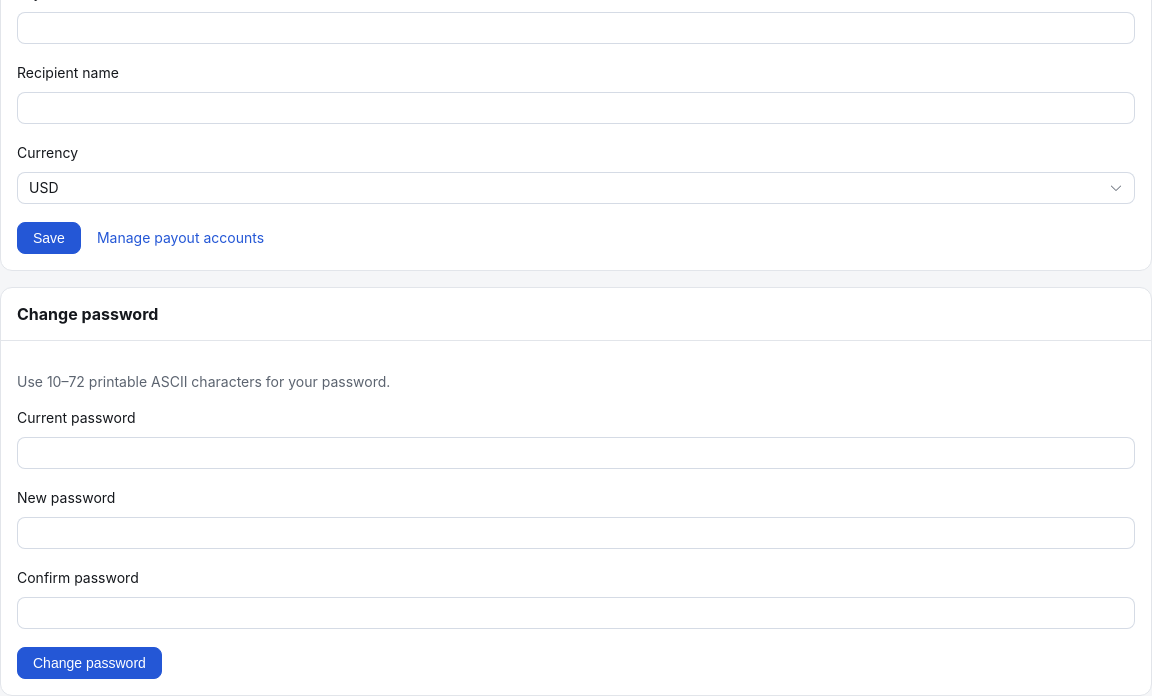
Scenario: account and logout › shows an old-password error and replaces the session after a successful change
(page scrolled)
Step 1. Type "Old-password1" into the password field labelled "Current password" → [576, 453], box [28,438,1124,468]
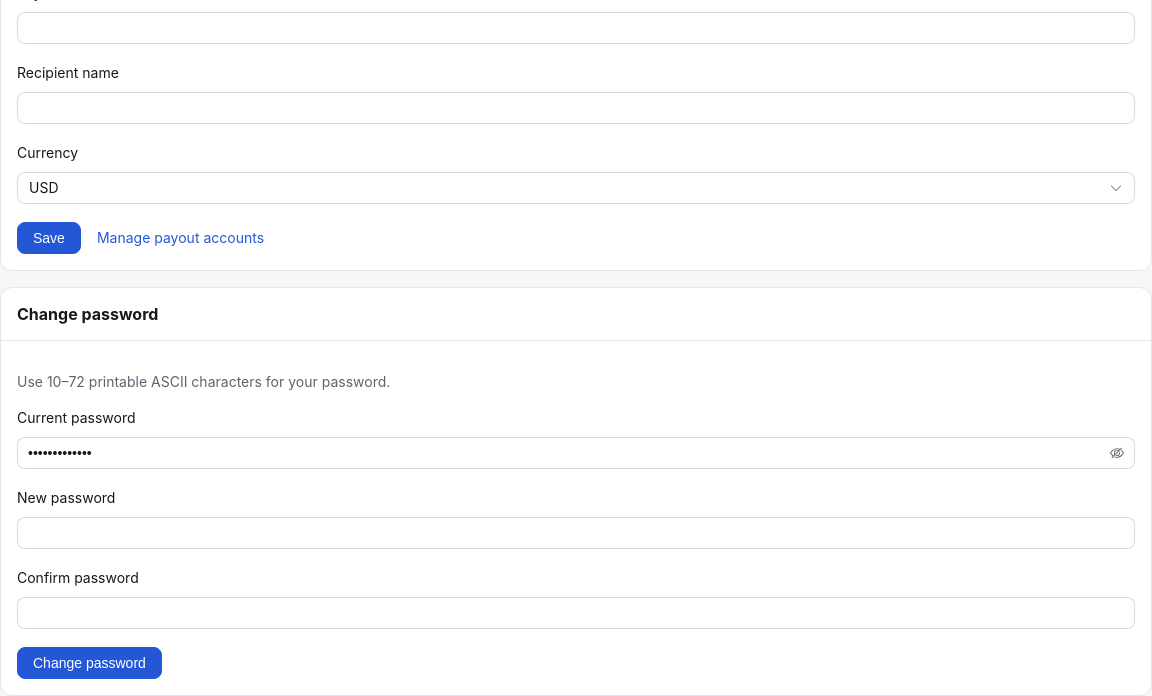
Step 2. Type "New-password2" into the password field labelled "New password" → [576, 533], box [28,518,1124,548]
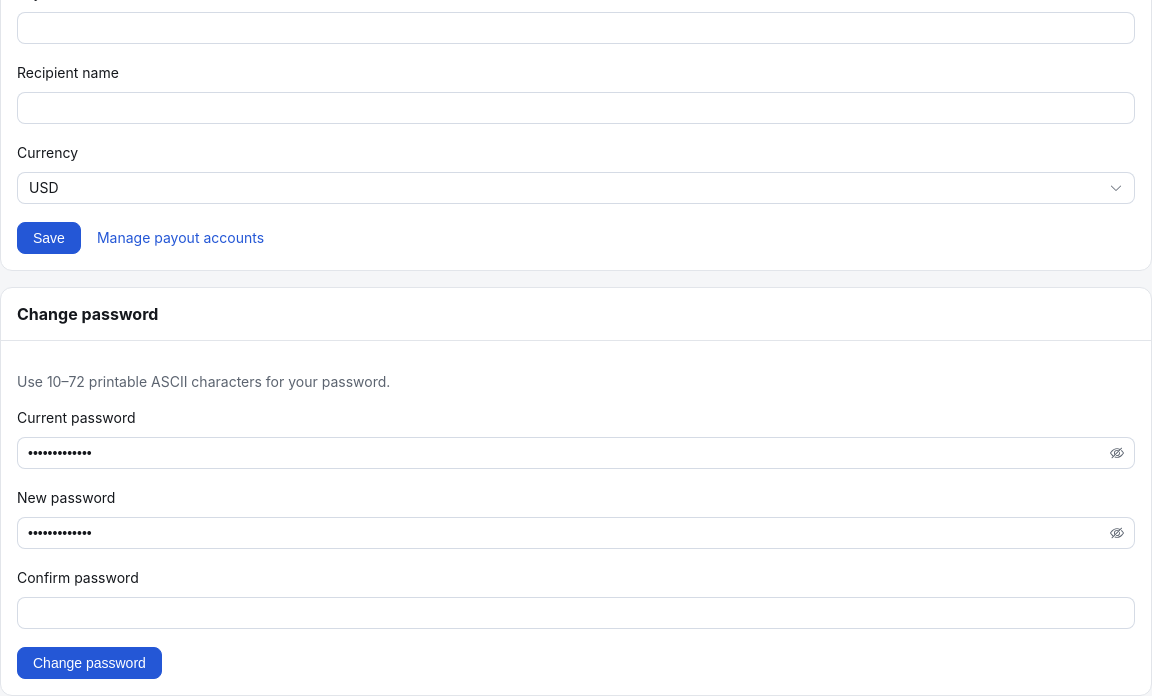
Step 3. Type "New-password2" into the password field labelled "Confirm password" → [576, 613], box [28,598,1124,628]
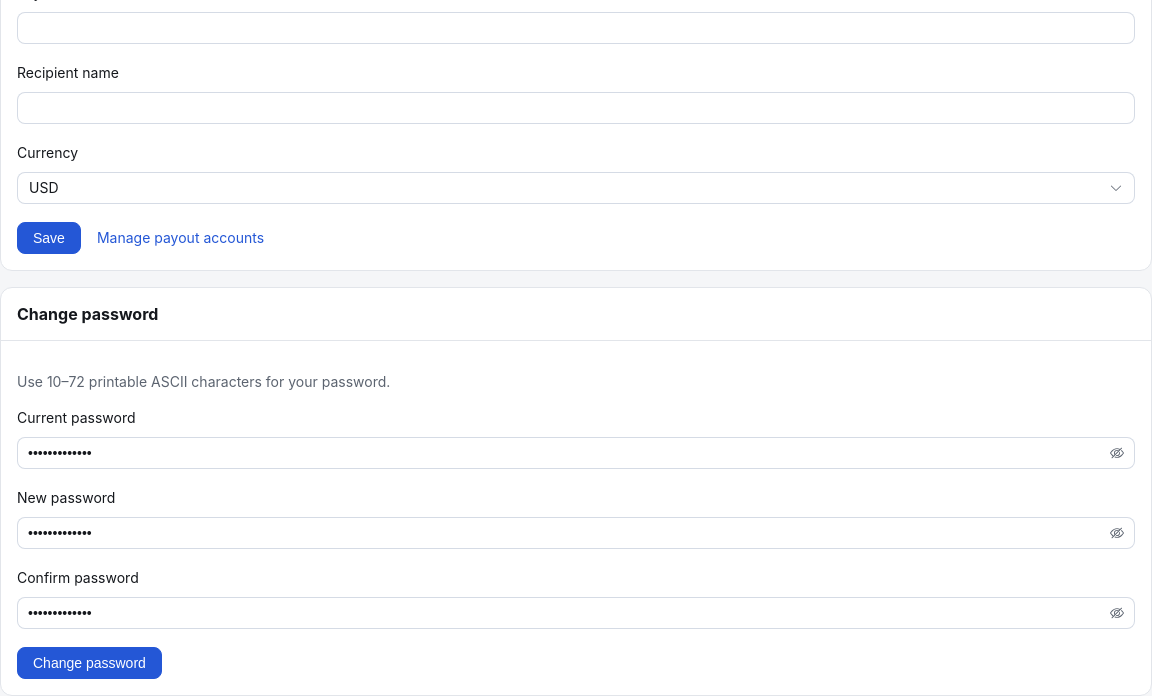
Step 4. Submit the form with test id "password-form", box [17,407,1135,679]
(page scrolled)
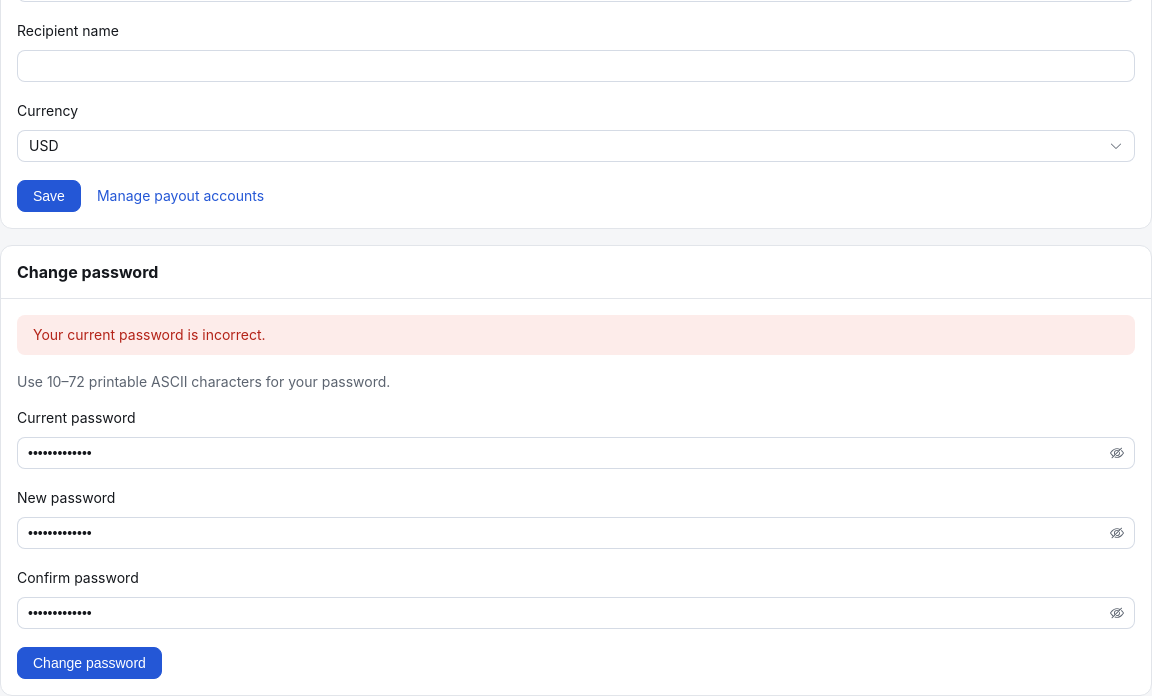
Expected: the text "current password is incorrect" is shown, [33,326,266,343]
Step 5. Submit the form with test id "password-form", box [17,407,1135,679]
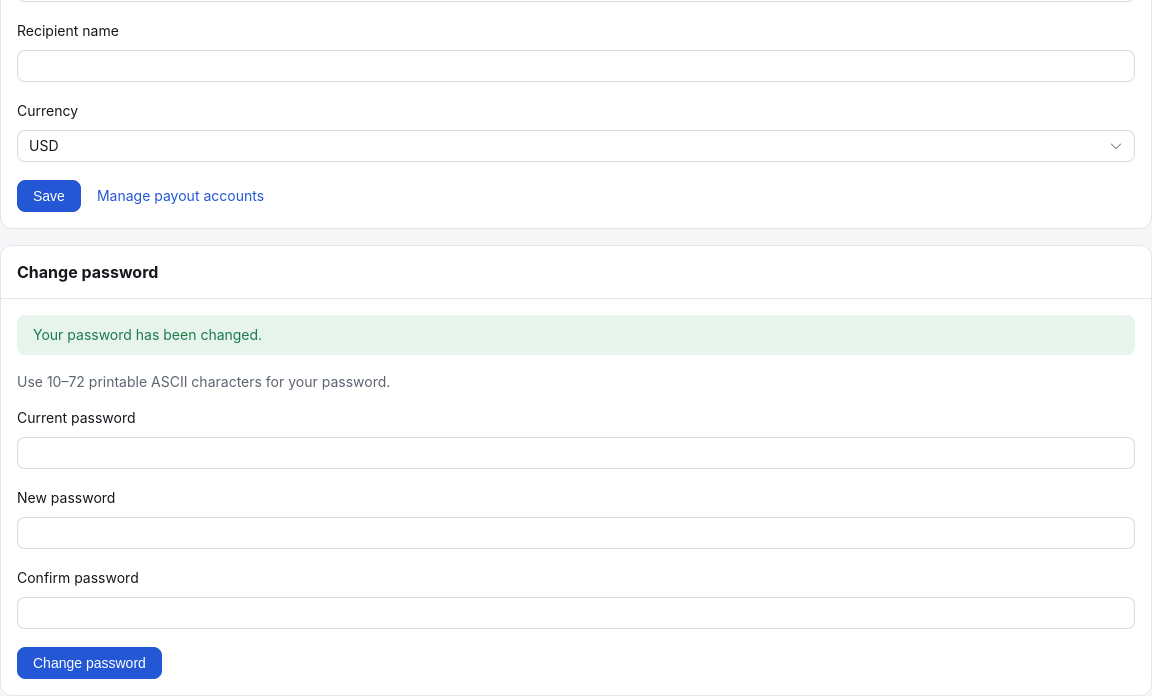
Expected: the text "password has been changed" is shown, [33,326,262,343]
